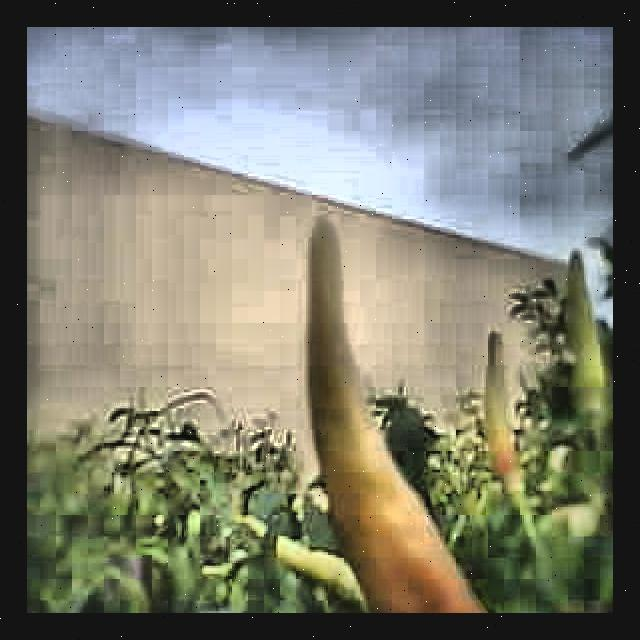Cabai: (298, 232, 488, 613), (558, 249, 613, 421), (480, 340, 530, 503)
